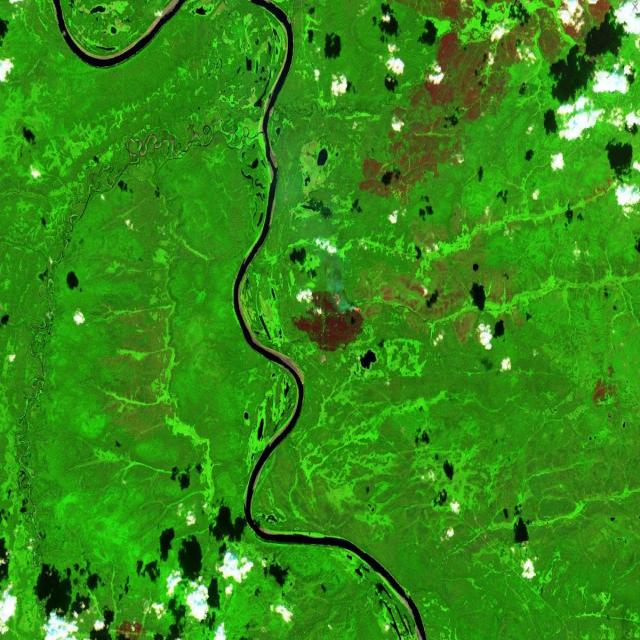fire: (328, 289, 366, 326)
